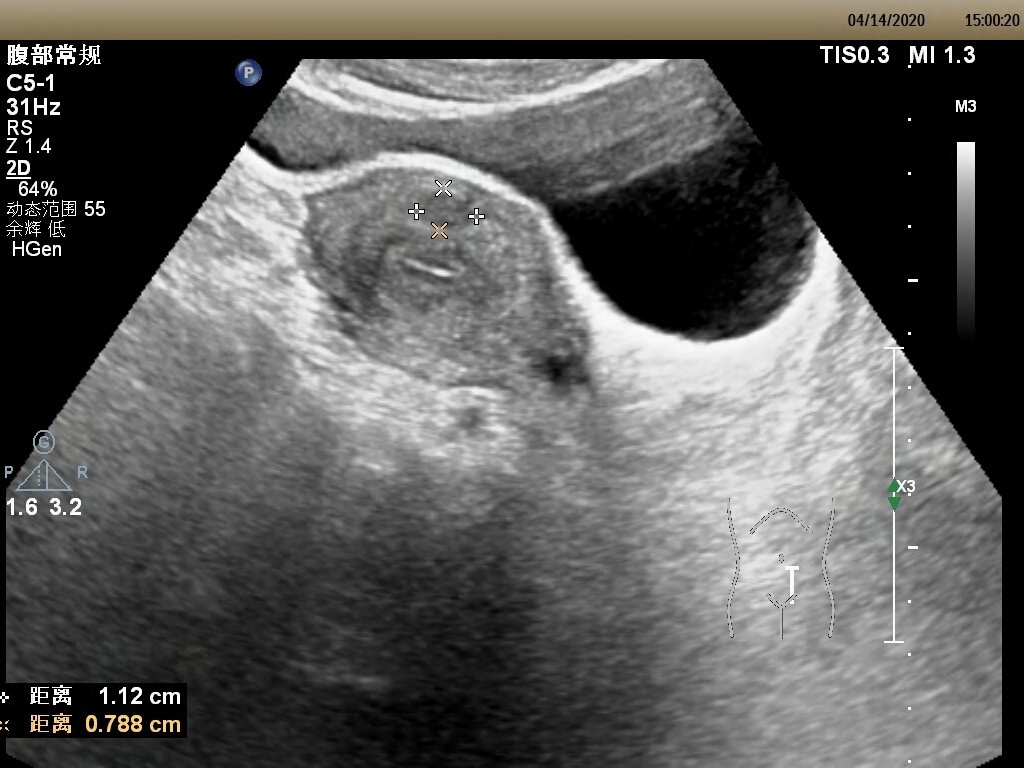肌瘤: (416, 187, 479, 228)
